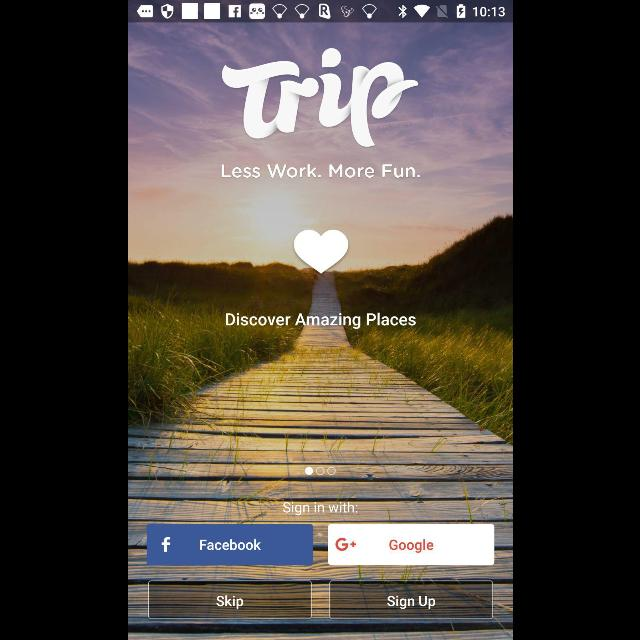backgroundimage: (128, 22, 512, 640)
icon: (293, 230, 347, 274)
image: (220, 48, 418, 148)
pageindicator: (282, 502, 358, 516), (304, 466, 336, 476)
text: (225, 312, 415, 330), (220, 164, 420, 178)
textbutton: (146, 524, 312, 566), (327, 524, 493, 566), (328, 580, 492, 620), (147, 580, 310, 620)
uppertaskbar: (128, 1, 512, 23)
